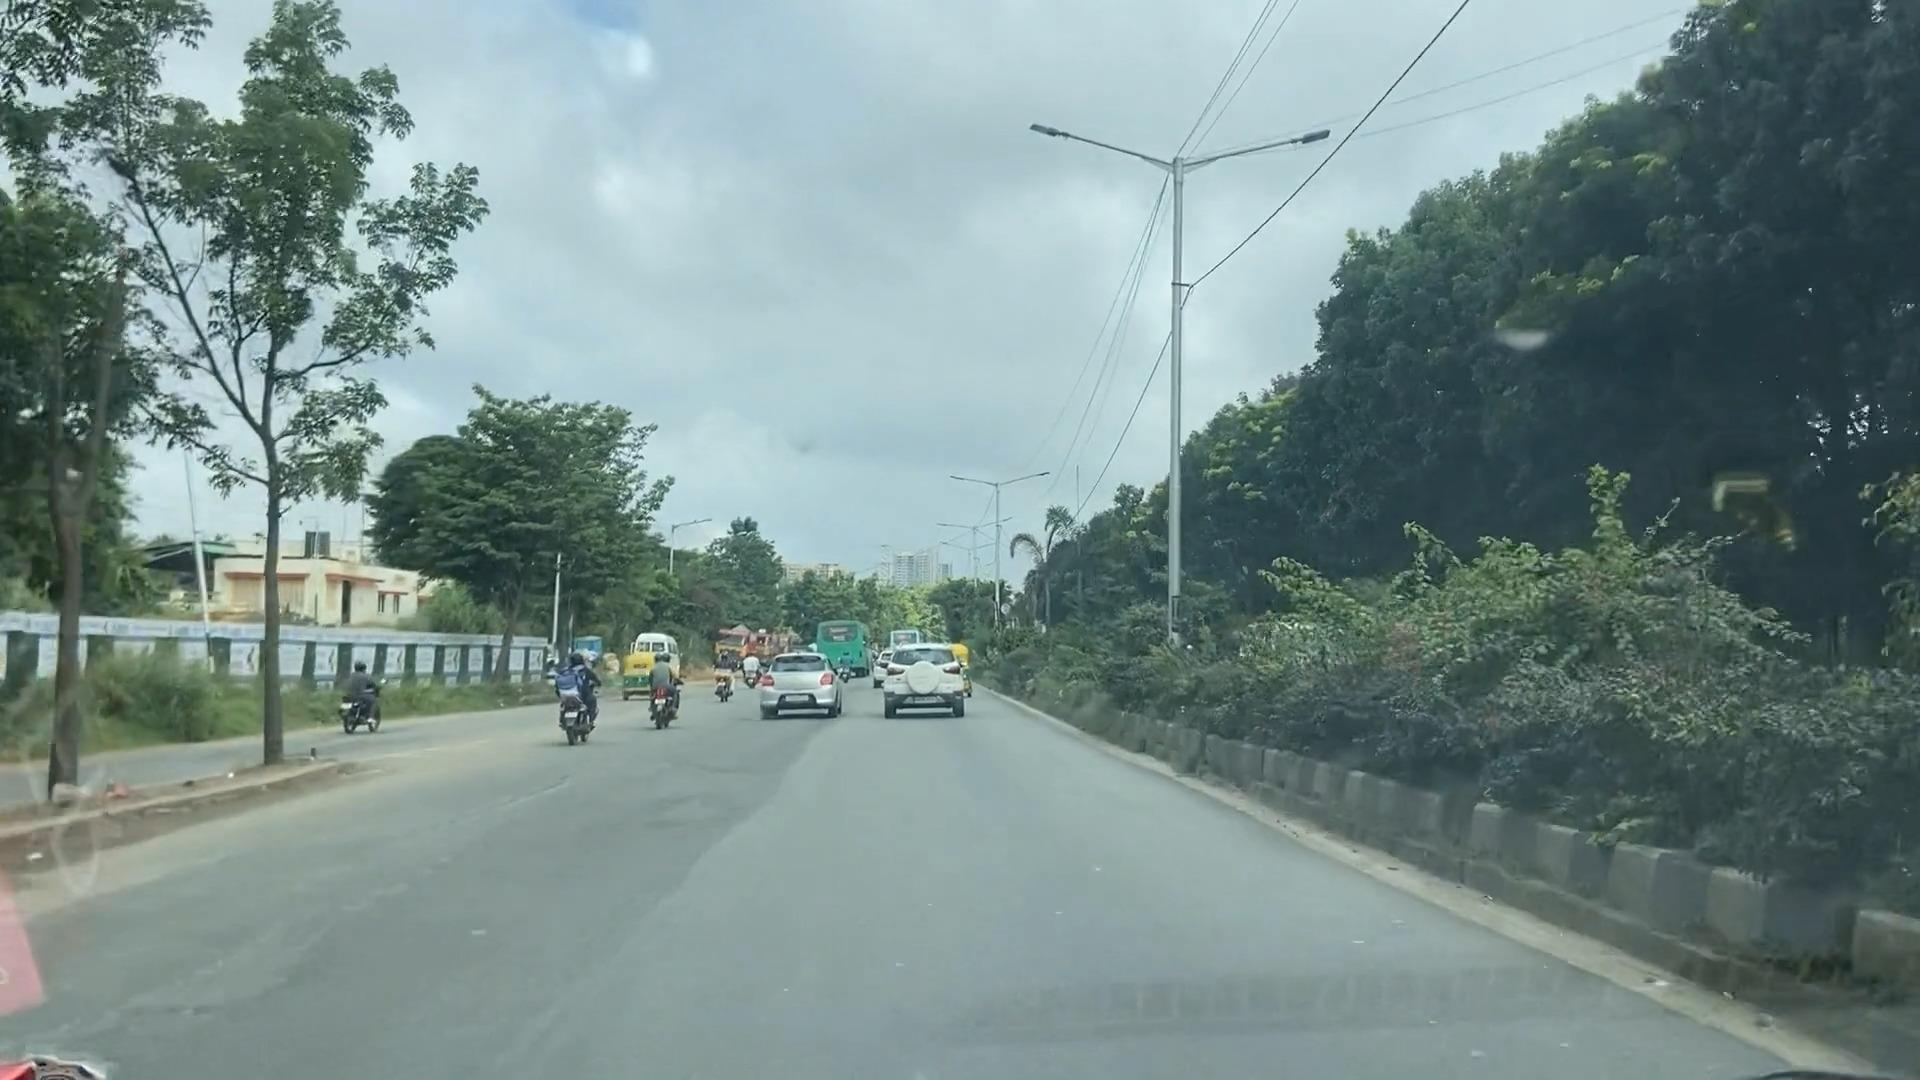LMV: (749, 634, 849, 728), (874, 626, 973, 716), (551, 644, 617, 746), (334, 650, 398, 746), (640, 634, 694, 740)
